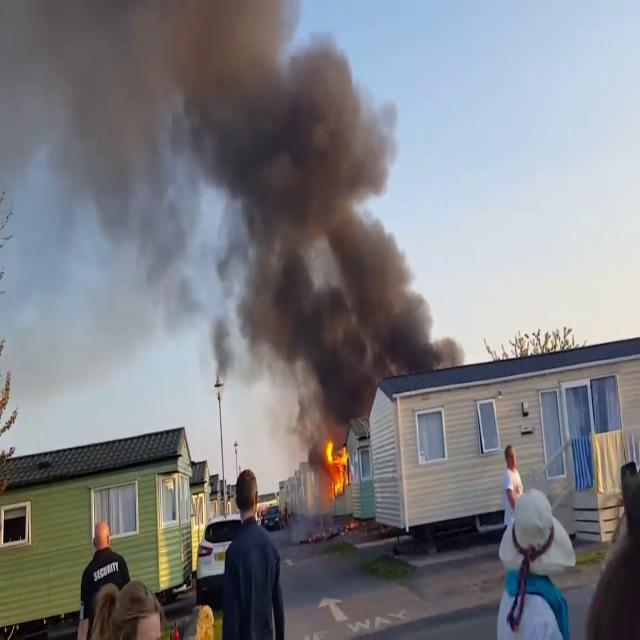Fire: (322, 435, 352, 497)
Smoke: (2, 0, 455, 413)
